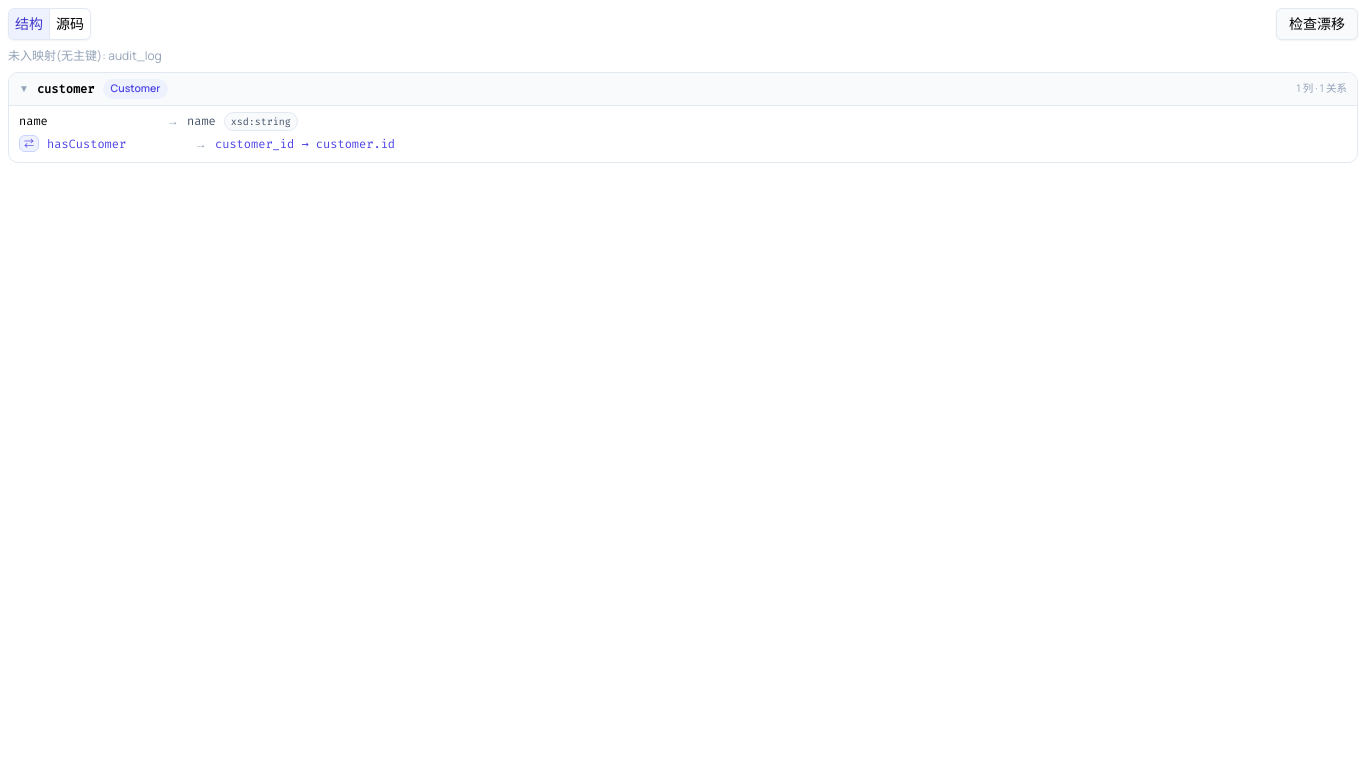
R2rmlPage › switches to the source tab showing the Turtle text
Expected: the text "customer" is shown, [37,81,94,97]
Click the radio button labelled "源码". click: [70, 24]
box: [50,8,91,40]
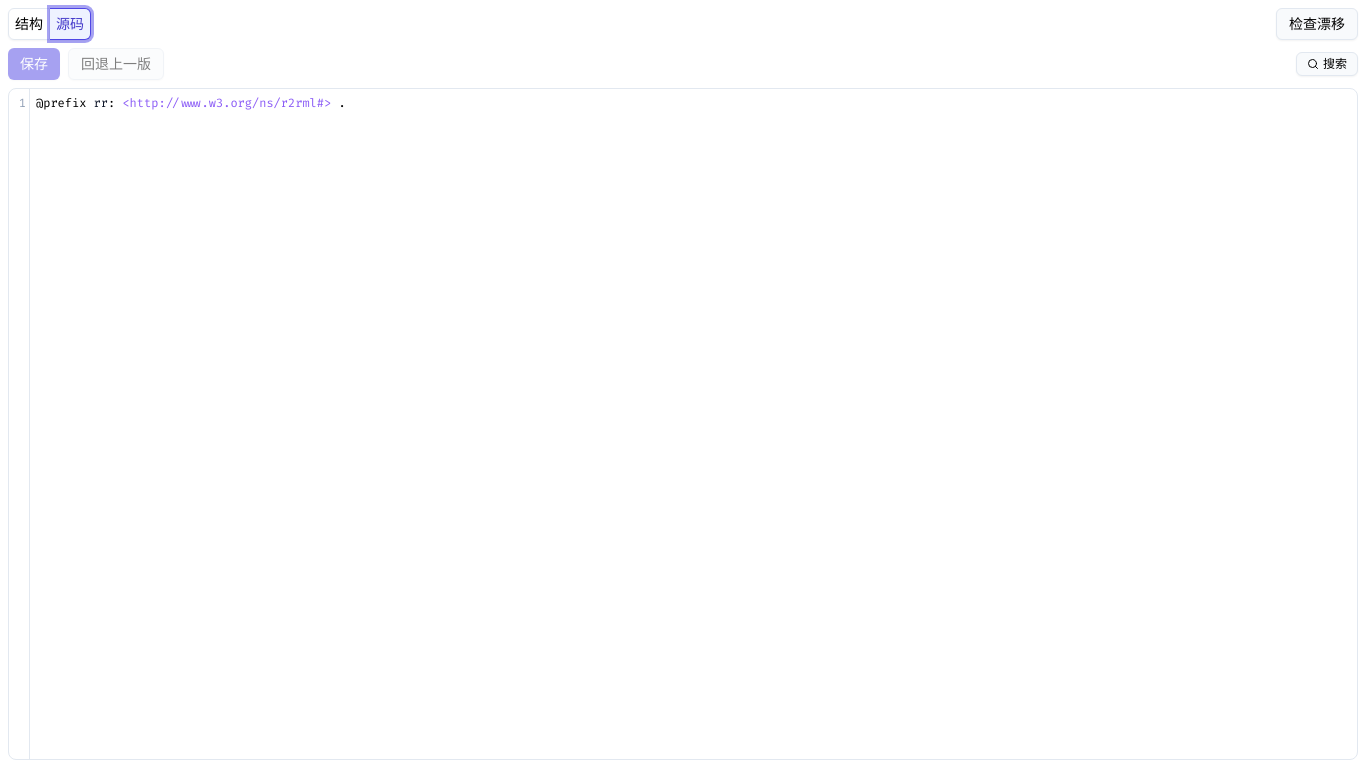
Now the field with class "cm-content" shows "@prefix rr:", box [36,95,346,111]
